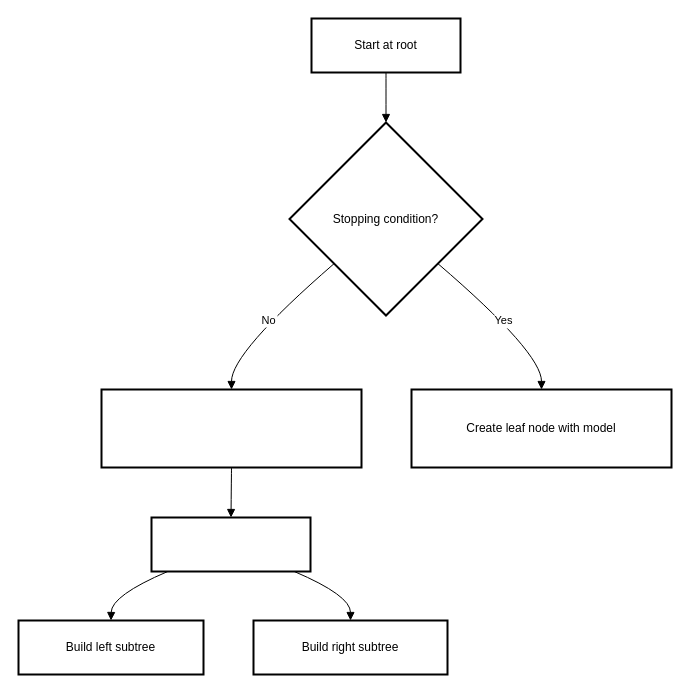
This 689x692 diagram has some shape labels left out. The centre of each missing label's shape, as x and y in pixels:
Find best split feature/threshold: the point at 231,428
Partition data: the point at 230,544
